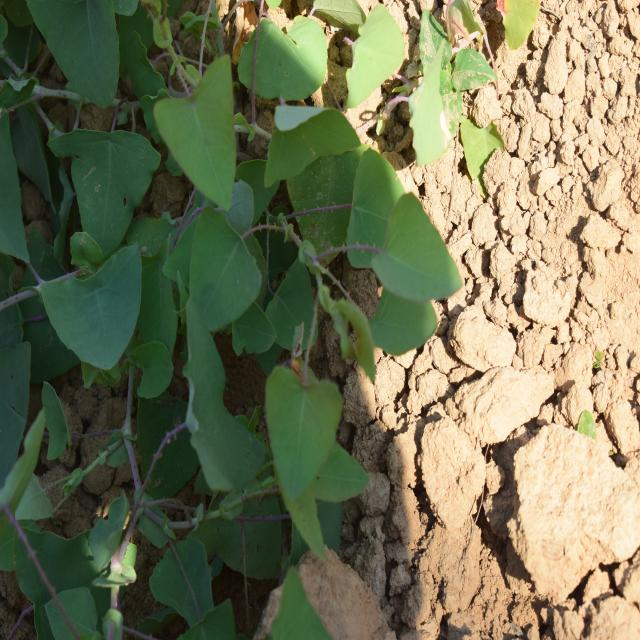Asiatic_Smartweed: (144, 46, 296, 398), (16, 66, 175, 401), (254, 111, 456, 339)
